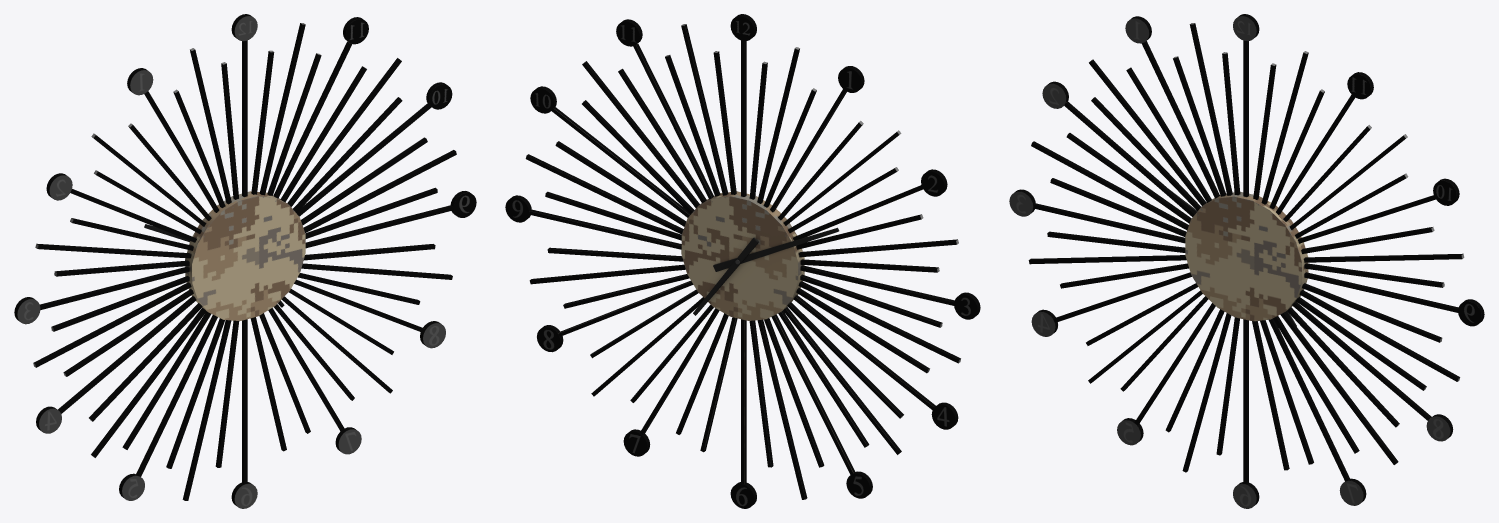
The picture shows the model from 3 angles, left to right: view 1: azimuth 30°, elevation 25°; view 2: azimuth 150°, elevation 25°; view 3: azimuth 330°, elevation 25°; orthographic projection.
Parts seen in each view (by area): view 1: default; view 2: default; view 3: default.
Part boxes in pixels (x1,y1,x2,y2): default: (14, 14, 476, 508); default: (505, 14, 980, 508); default: (1009, 14, 1484, 508).
Size of the model in its own units: 15.99 by 16.14 by 0.6419.
1 material, 1 textured.
